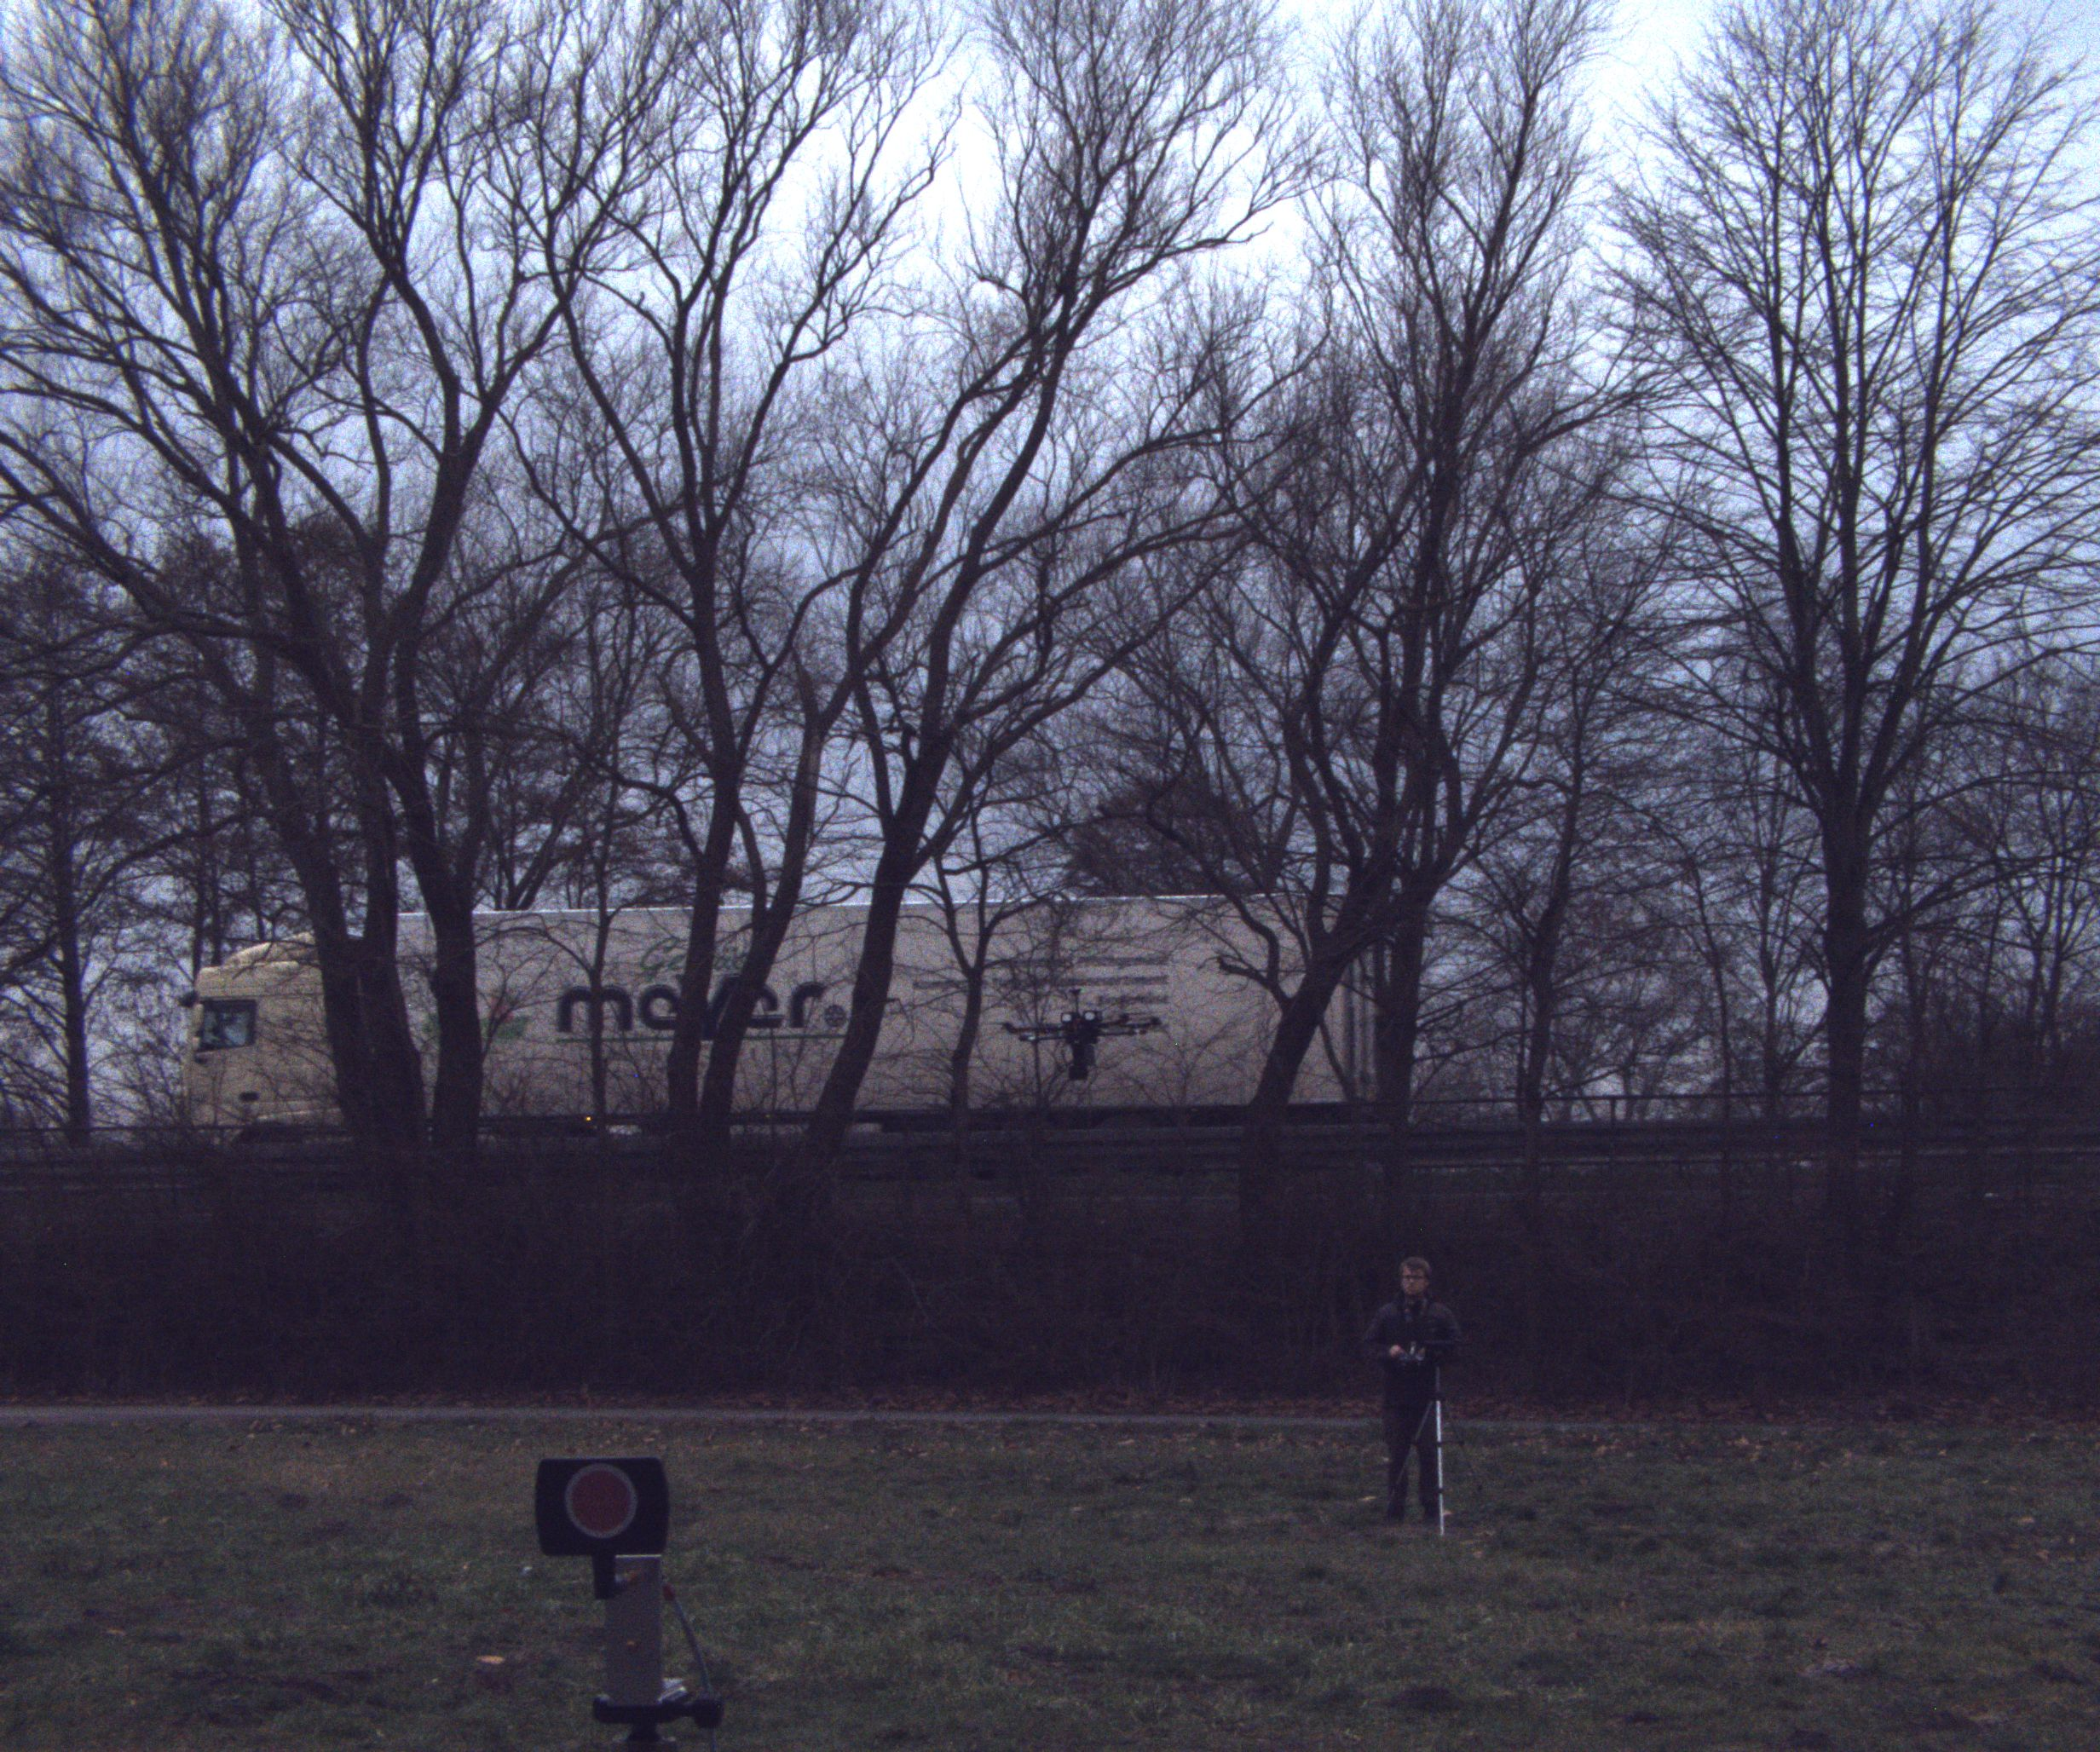Drohne: (1001, 962, 1167, 1117)
